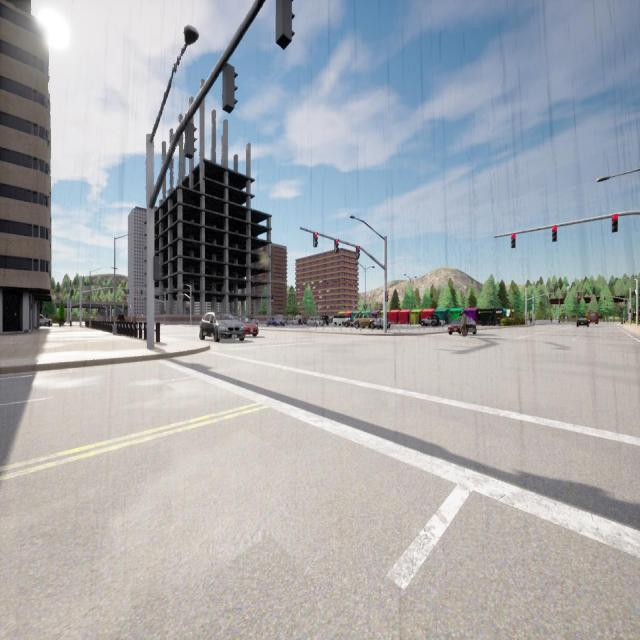Pedestrian: (118, 310, 124, 322)
Traffic_Signs: (565, 317, 567, 319)
Vehicle: (200, 313, 244, 341), (448, 317, 476, 335), (237, 316, 258, 336), (354, 314, 374, 329), (421, 315, 438, 326), (333, 316, 350, 326), (266, 317, 284, 326), (374, 318, 390, 328), (40, 314, 52, 327), (587, 311, 598, 324), (307, 317, 322, 326), (576, 317, 588, 327), (321, 316, 328, 326), (287, 319, 298, 325)
traffic_light: (275, 0, 294, 49), (223, 64, 238, 113), (185, 124, 197, 159), (154, 256, 160, 280), (612, 215, 618, 232), (552, 226, 557, 241), (314, 233, 318, 247), (511, 234, 515, 248), (356, 247, 360, 260), (334, 240, 338, 252), (386, 291, 388, 302), (604, 296, 606, 300), (134, 296, 136, 300), (124, 296, 126, 299), (164, 311, 166, 314), (578, 296, 580, 299), (590, 296, 592, 299), (629, 310, 631, 312)
